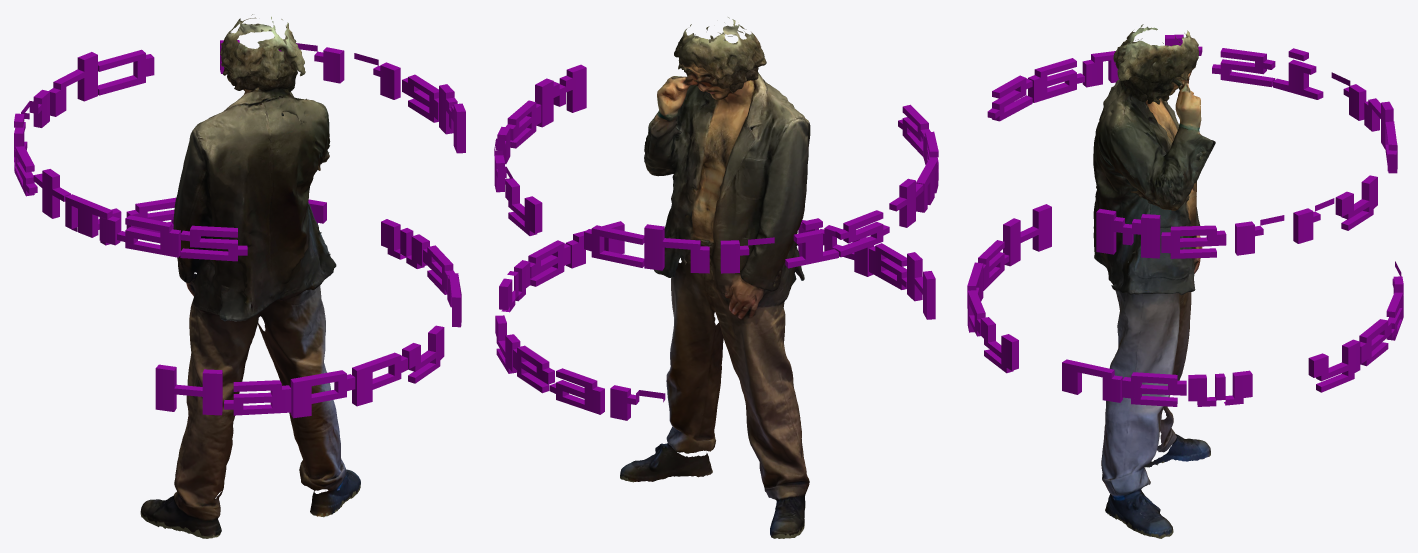
Rendered from antoine-text.glb.
The picture shows the model from 3 angles, left to right: view 1: azimuth 30°, elevation 25°; view 2: azimuth 150°, elevation 25°; view 3: azimuth 270°, elevation 25°; orthographic projection. The views are drawn at different scales.
Parts seen in each view (by area): view 1: antoine, 3D Text - H, 3D Text - a0, 3D Text - m, 3D Text - a, 3D Text - p, 3D Text - s0, 3D Text - h, 3D Text - p0, 3D Text - w, 3D Text - c, 3D Text - y0 (+10 smaller); view 2: antoine, 3D Text - M, 3D Text - h, 3D Text - a1, 3D Text - s, 3D Text - c, 3D Text - y, 3D Text - e0, 3D Text - H, 3D Text - i, 3D Text - e1, 3D Text - a0 (+10 smaller); view 3: antoine, 3D Text - M, 3D Text - e, 3D Text - e0, 3D Text - H, 3D Text - s, 3D Text - w, 3D Text - y1, 3D Text - a, 3D Text - n, 3D Text - y, 3D Text - y0 (+12 smaller).
Part boxes in pixels (box(x1,y1,x2,y2)): antoine: box(140, 14, 360, 538); 3D Text - H: box(155, 364, 222, 415); 3D Text - a0: box(224, 380, 291, 415); 3D Text - m: box(65, 194, 120, 245); 3D Text - a: box(117, 215, 180, 257); 3D Text - p: box(290, 370, 355, 418); 3D Text - s0: box(180, 225, 247, 261); 3D Text - h: box(48, 52, 97, 116); 3D Text - p0: box(352, 352, 407, 406); 3D Text - w: box(381, 219, 429, 268); 3D Text - c: box(98, 49, 154, 95); 3D Text - y0: box(402, 325, 444, 383); antoine: box(620, 17, 810, 538); 3D Text - M: box(535, 64, 586, 127); 3D Text - h: box(644, 224, 709, 273); 3D Text - a1: box(549, 368, 604, 414); 3D Text - s: box(835, 210, 889, 257); 3D Text - c: box(584, 225, 644, 267); 3D Text - y: box(505, 178, 542, 235); 3D Text - e0: box(528, 240, 570, 286); 3D Text - H: box(907, 252, 935, 319); 3D Text - i: box(785, 218, 838, 268); 3D Text - e1: box(513, 345, 554, 393); 3D Text - a0: box(869, 243, 906, 289); antoine: box(1093, 24, 1215, 538); 3D Text - M: box(1096, 209, 1160, 258); 3D Text - e: box(1161, 225, 1226, 258); 3D Text - e0: box(1122, 372, 1186, 406); 3D Text - H: box(1003, 204, 1051, 266); 3D Text - s: box(1212, 48, 1275, 87); 3D Text - w: box(1188, 370, 1252, 406); 3D Text - y1: box(1308, 339, 1360, 392); 3D Text - a: box(1028, 58, 1084, 102); 3D Text - n: box(1062, 359, 1122, 402); 3D Text - y: box(1335, 175, 1377, 230); 3D Text - y0: box(980, 317, 1018, 373).
Size of the model in its own units: 0.4603 by 0.5511 by 0.4603.
Materials: 27 (1 with a texture image).
